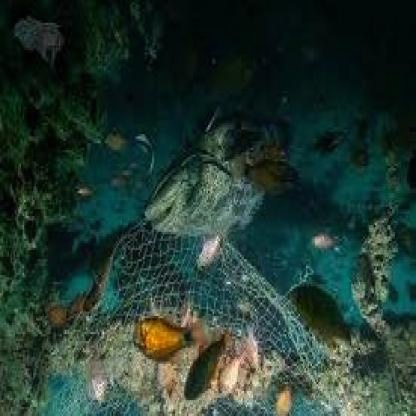net: (86, 218, 336, 412)
